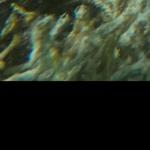dead: (2, 1, 147, 78)
